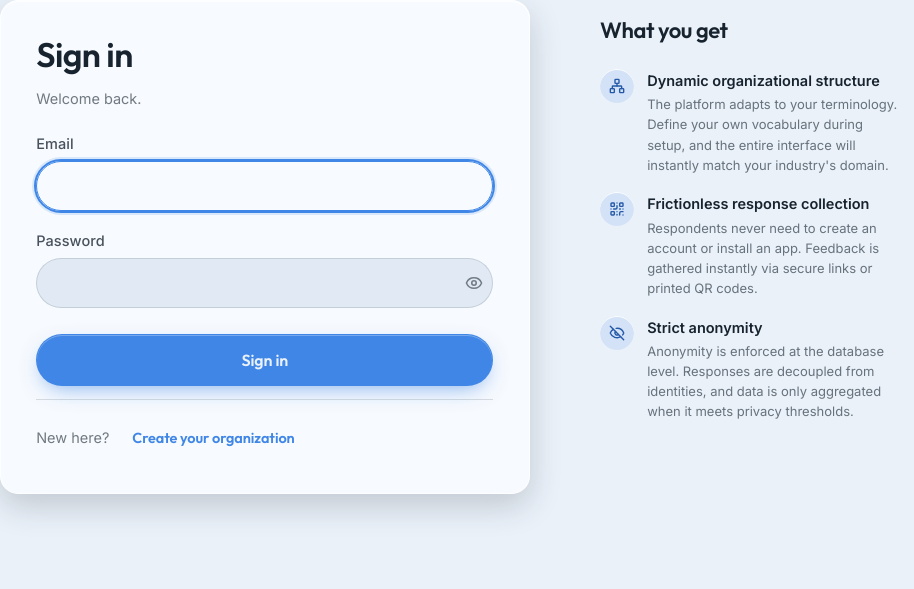
Test: sign in — 30 §3.2 › says one thing for a bad password, and does not blame a field
Type "admin@northfield.endur.test" into the field labelled "Email" at (265,186), box [36, 161, 493, 211]
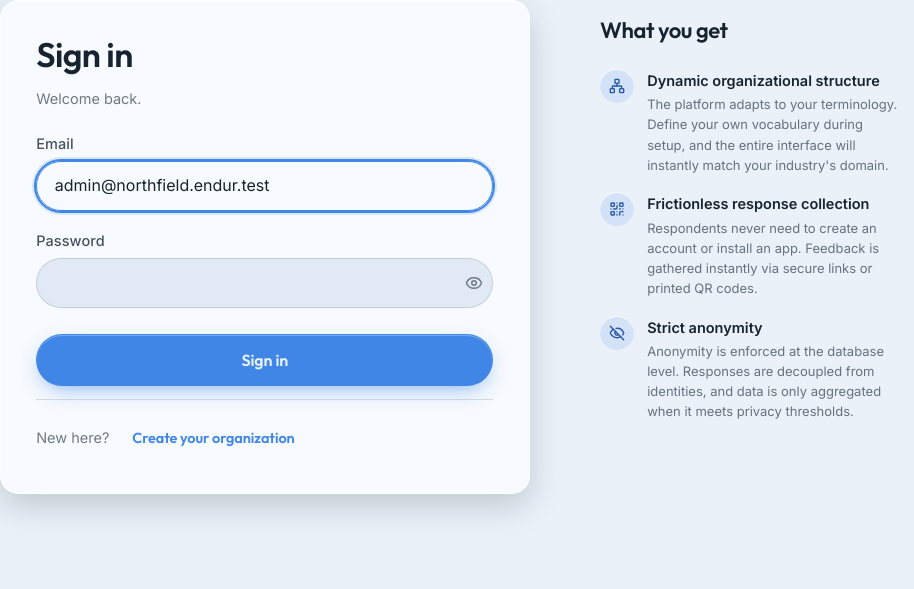
Type "endur-demo-password" into the password field labelled "Password" at (265,283), box [36, 258, 493, 308]
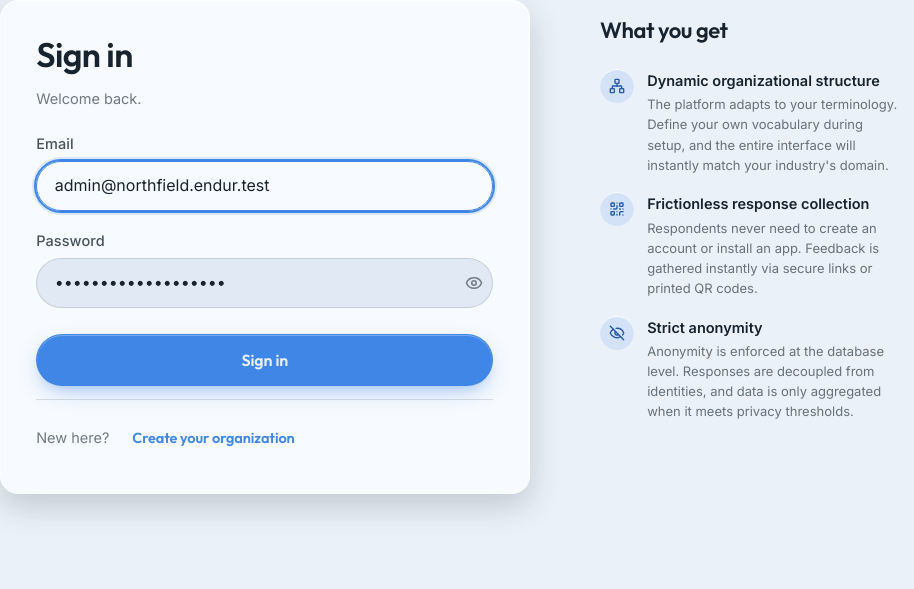
Click the button "Sign in" at (265,360), box [36, 334, 493, 386]
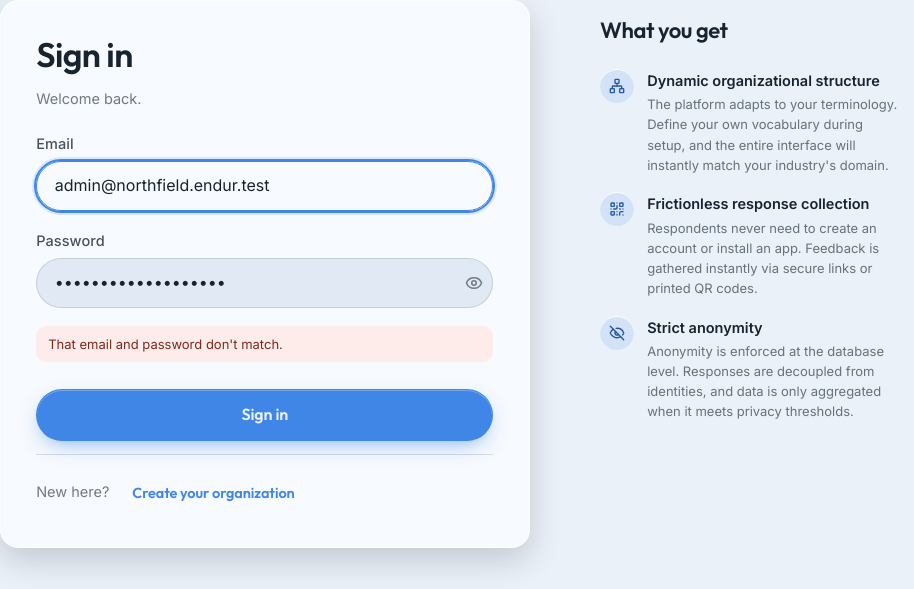
Expected: the message reads "That email and password don't match.", [48, 336, 283, 352]
